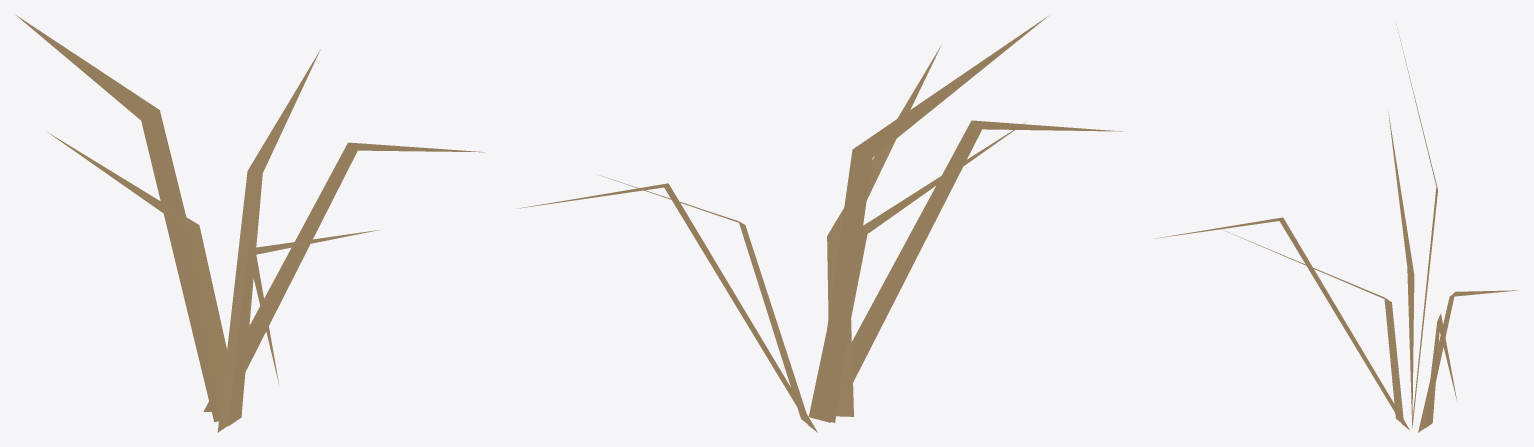
File: Grass_h_TwoS_02.fbx
The picture shows the model from 3 angles, left to right: view 1: azimuth 30°, elevation 25°; view 2: azimuth 150°, elevation 25°; view 3: azimuth 270°, elevation 25°; orthographic projection. The views are drawn at different scales.
Visible parts, largest first — view 1: Grass_h_TwoS_02; view 2: Grass_h_TwoS_02; view 3: Grass_h_TwoS_02.
Part boxes in pixels (box(x1,y1,x2,y2)): Grass_h_TwoS_02: box(16, 15, 484, 432); Grass_h_TwoS_02: box(518, 16, 1122, 432); Grass_h_TwoS_02: box(1153, 24, 1518, 432).
Bounding box in the file's own units: 0.4759 × 0.4149 × 0.4137.
